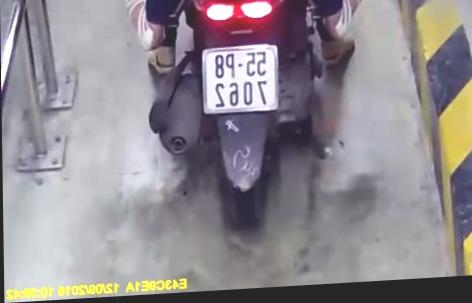License_Plate: (198, 39, 283, 122)
